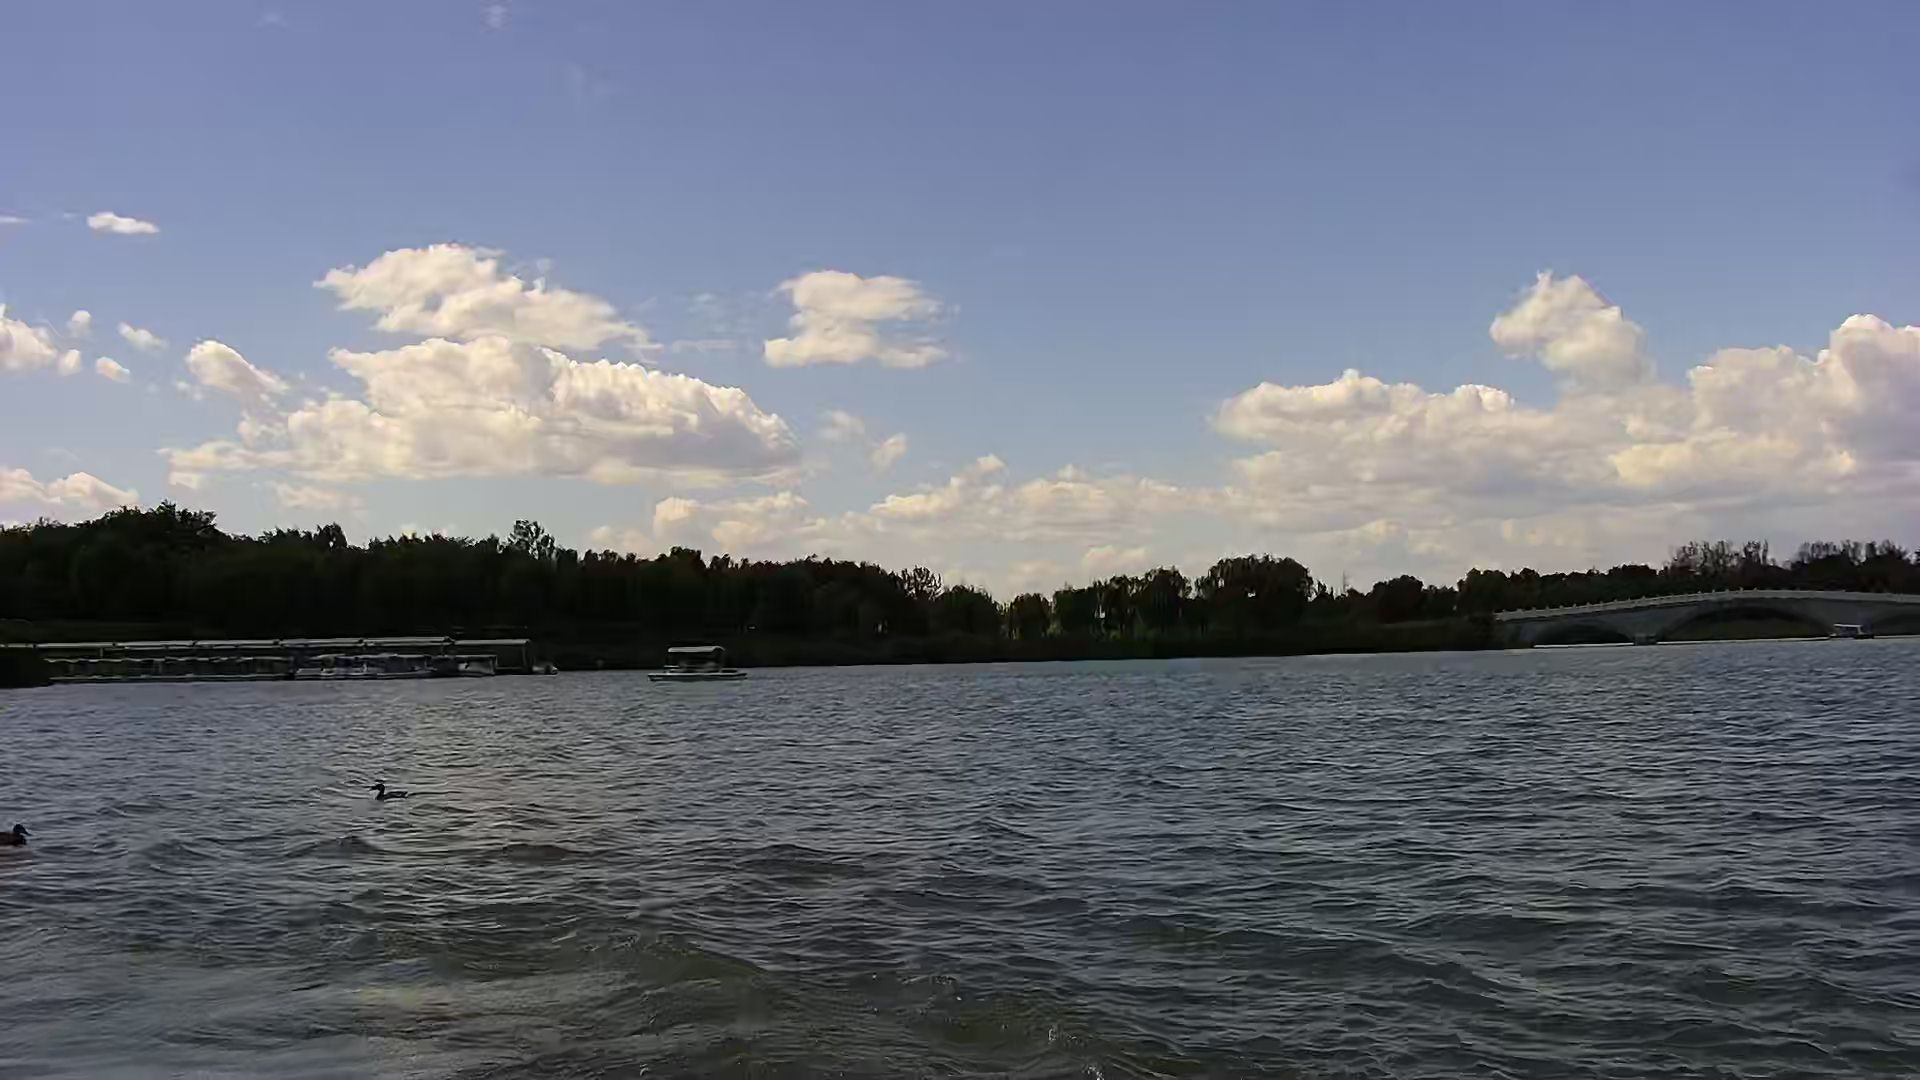animal: (367, 778, 415, 806), (1, 825, 40, 851)
boat: (641, 647, 756, 684)
bridge: (1495, 582, 1920, 650)
harbor: (1, 632, 542, 682)
